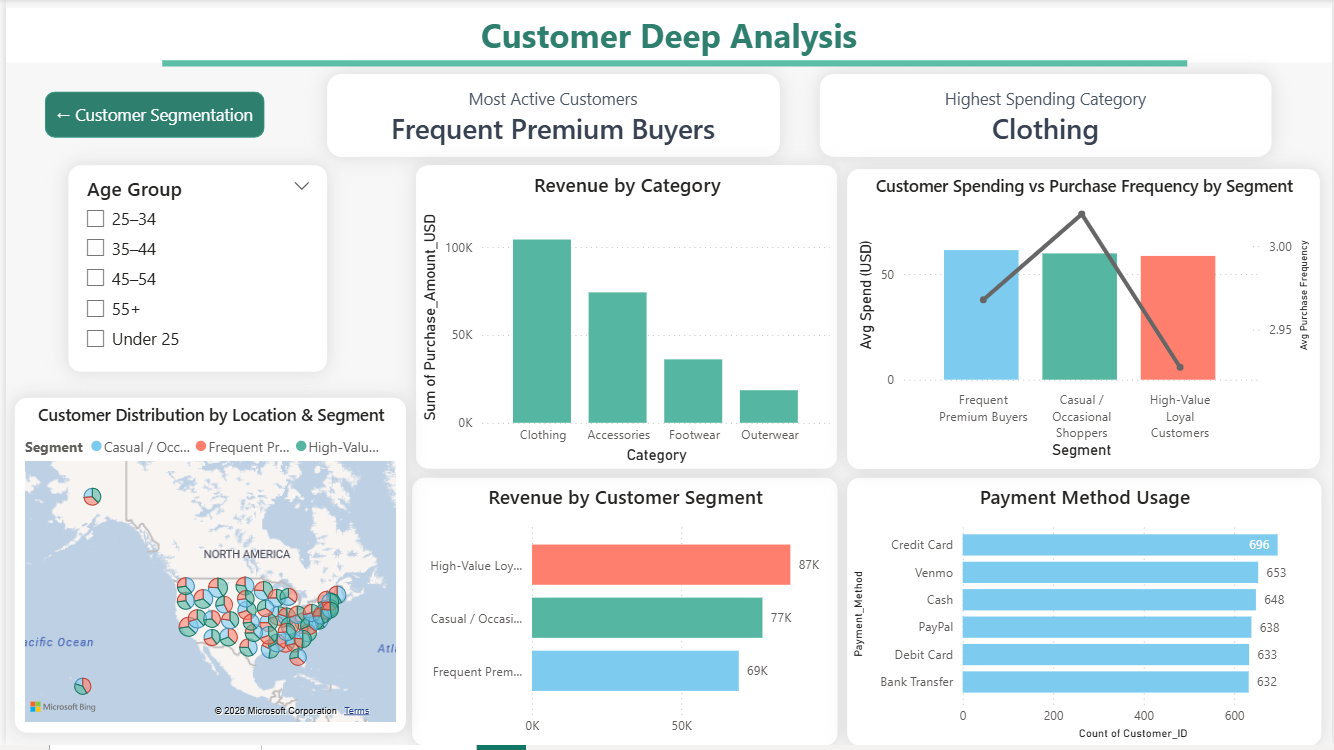

This screenshot's page, from the dashboard's own definition file:
{"tool":"powerbi","page":{"name":"Customer Deep Analysis","canvas":[1280,720],"ordinal":1},"visuals":[{"type":"textbox","box":[0,8.4,1280,53.1],"z":0},{"type":"cardVisual","fields":{"Data":["segmented_customers.Most Active Customers"]},"box":[310.1,72.4,436.7,79.6],"z":1000},{"type":"cardVisual","fields":{"Data":["segmented_customers.Highest Spending Category"]},"box":[785.4,72.4,436,79.6],"z":2000},{"type":"actionButton","title":"View Detailed Analysis","box":[37.4,89.3,212.3,44.6],"z":3000},{"type":"clusteredBarChart","title":"Revenue by Customer Segment","fields":{"Category":["segmented_customers.Segment"],"Y":["Sum(segmented_customers.Purchase_Amount_USD)"]},"box":[392.1,461.8,410.2,258.2],"z":4000},{"type":"clusteredColumnChart","title":"Revenue by Category","fields":{"Category":["segmented_customers.Category"],"Y":["Sum(segmented_customers.Purchase_Amount_USD)"]},"box":[395.7,160.5,406.6,293.2],"z":5000},{"type":"barChart","title":"Payment Method Usage","fields":{"Category":["segmented_customers.Payment_Method"],"Y":["CountNonNull(segmented_customers.Customer_ID)"]},"box":[811.9,462.1,457.2,258.2],"z":6000},{"type":"map","title":"Customer Distribution by Location & Segment","fields":{"Category":["segmented_customers.Location"],"Series":["segmented_customers.Segment"],"Size":["CountNonNull(segmented_customers.Customer_ID)"]},"box":[8.4,384.9,377.6,323.3],"z":7000},{"type":"slicer","fields":{"Values":["segmented_customers.Age Group"]},"box":[60.3,160.5,249.7,199.1],"z":8000},{"type":"lineClusteredColumnComboChart","title":"Customer Spending vs Purchase Frequency by Segment","fields":{"Category":["segmented_customers.Segment"],"Y":["Avg(segmented_customers.Purchase_Amount_USD)"],"Y2":["Avg(segmented_customers.Purchase_Frequency_Score)"]},"box":[811.9,164.1,456,289.5],"z":9000},{"type":"shape","box":[150.8,59.1,989.3,6],"z":10000}]}

Visuals, with their boxes in screenshot pixels (x1, y1, x2, y2), scaled from the page's 1280x720 canvas onto the 1334x750 screenshot:
textbox: <box>0,9,1333,64</box>
cardVisual - segmented_customers.Most Active Customers: <box>323,75,778,158</box>
cardVisual - segmented_customers.Highest Spending Category: <box>819,75,1273,158</box>
"View Detailed Analysis" actionButton: <box>39,93,260,139</box>
"Revenue by Customer Segment" clusteredBarChart: <box>409,481,836,749</box>
"Revenue by Category" clusteredColumnChart: <box>412,167,836,473</box>
"Payment Method Usage" barChart: <box>846,481,1323,749</box>
"Customer Distribution by Location & Segment" map: <box>9,401,402,738</box>
slicer - segmented_customers.Age Group: <box>63,167,323,375</box>
"Customer Spending vs Purchase Frequency by Segment" lineClusteredColumnComboChart: <box>846,171,1321,473</box>
shape: <box>157,62,1188,68</box>
